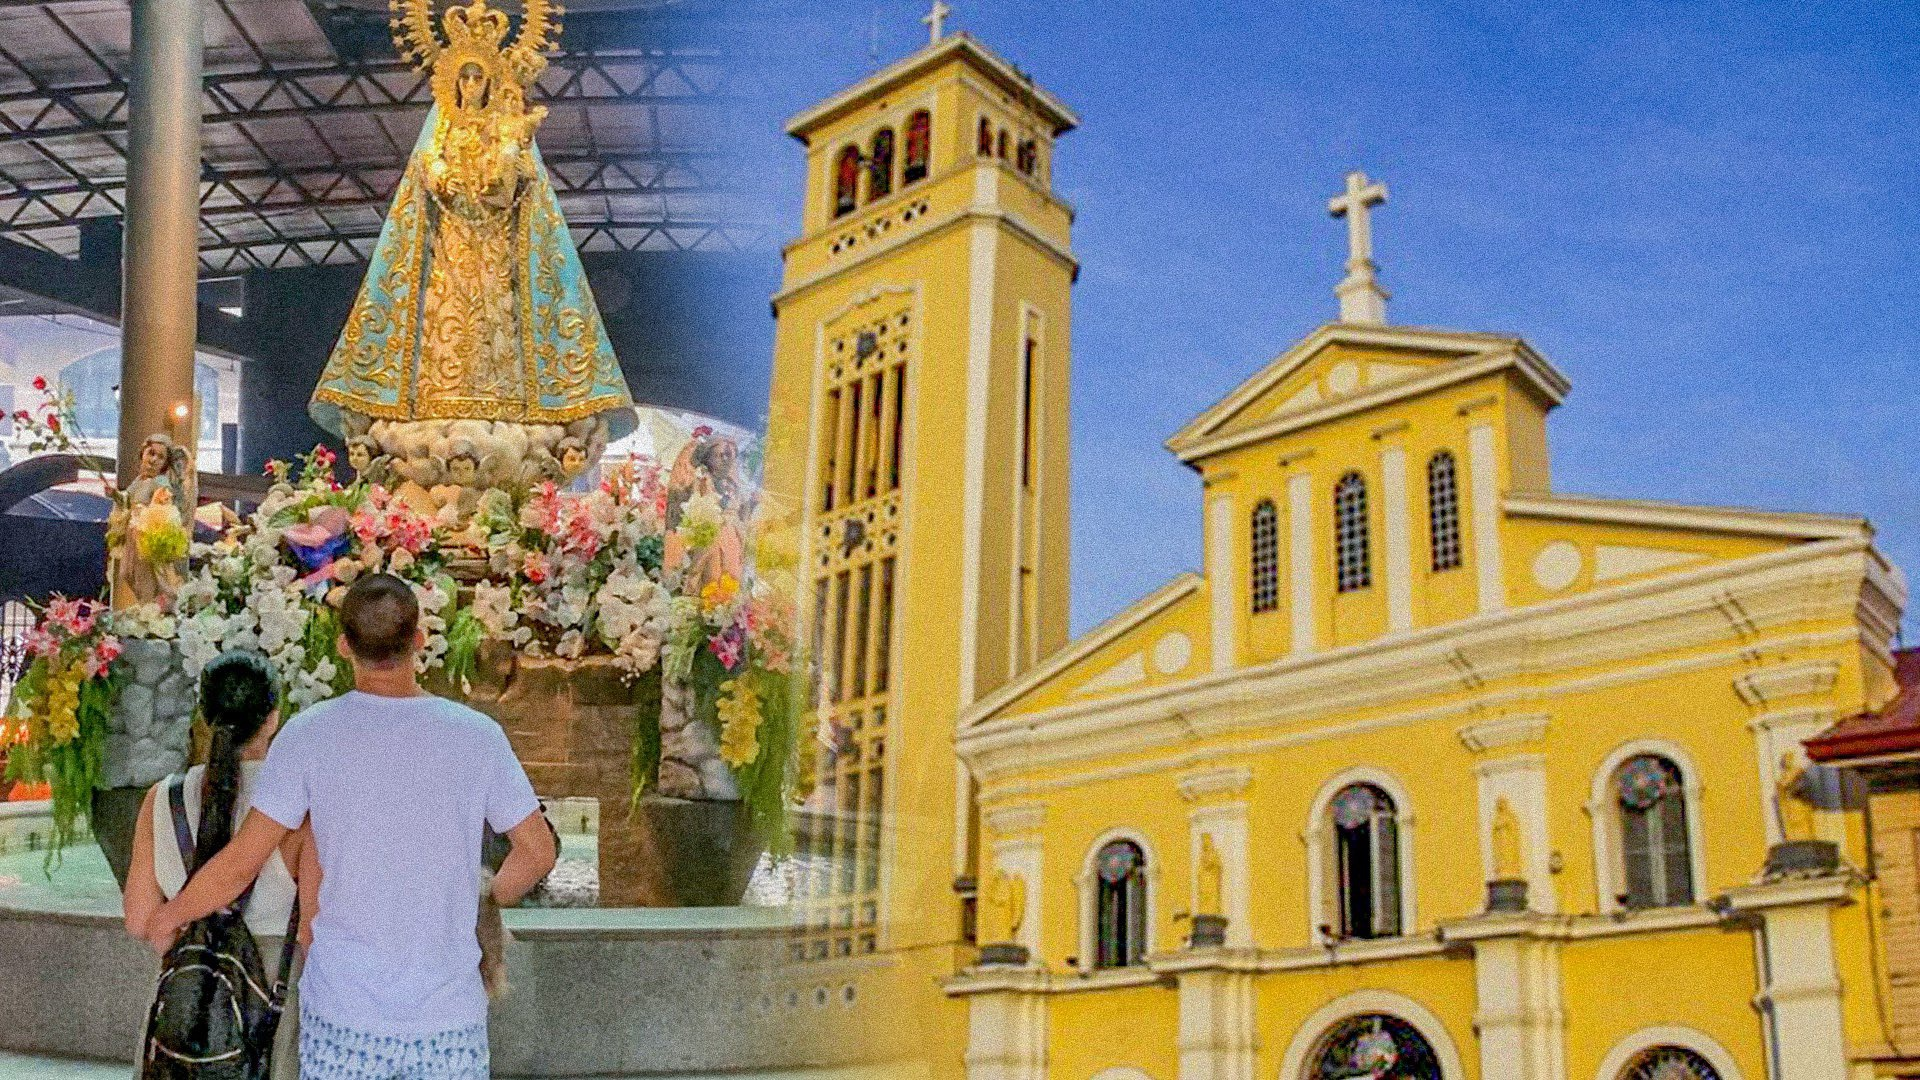manaoag_church_manaoag_pangasinan: (745, 9, 1917, 1080)
